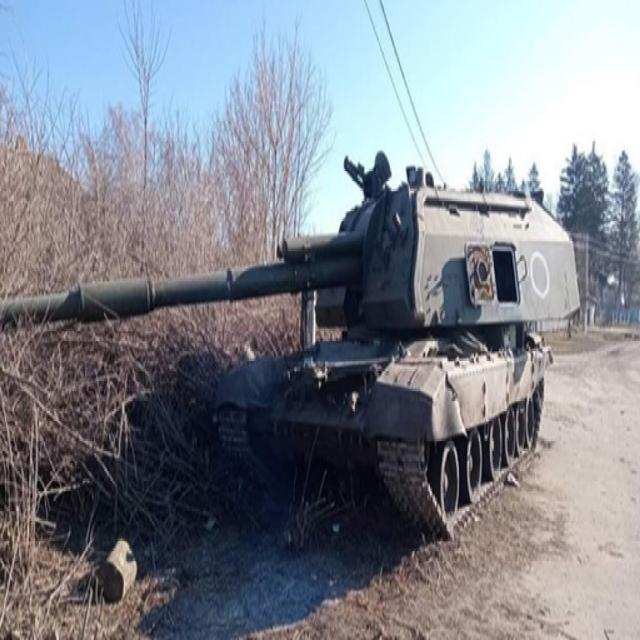ART: (0, 155, 582, 537)
